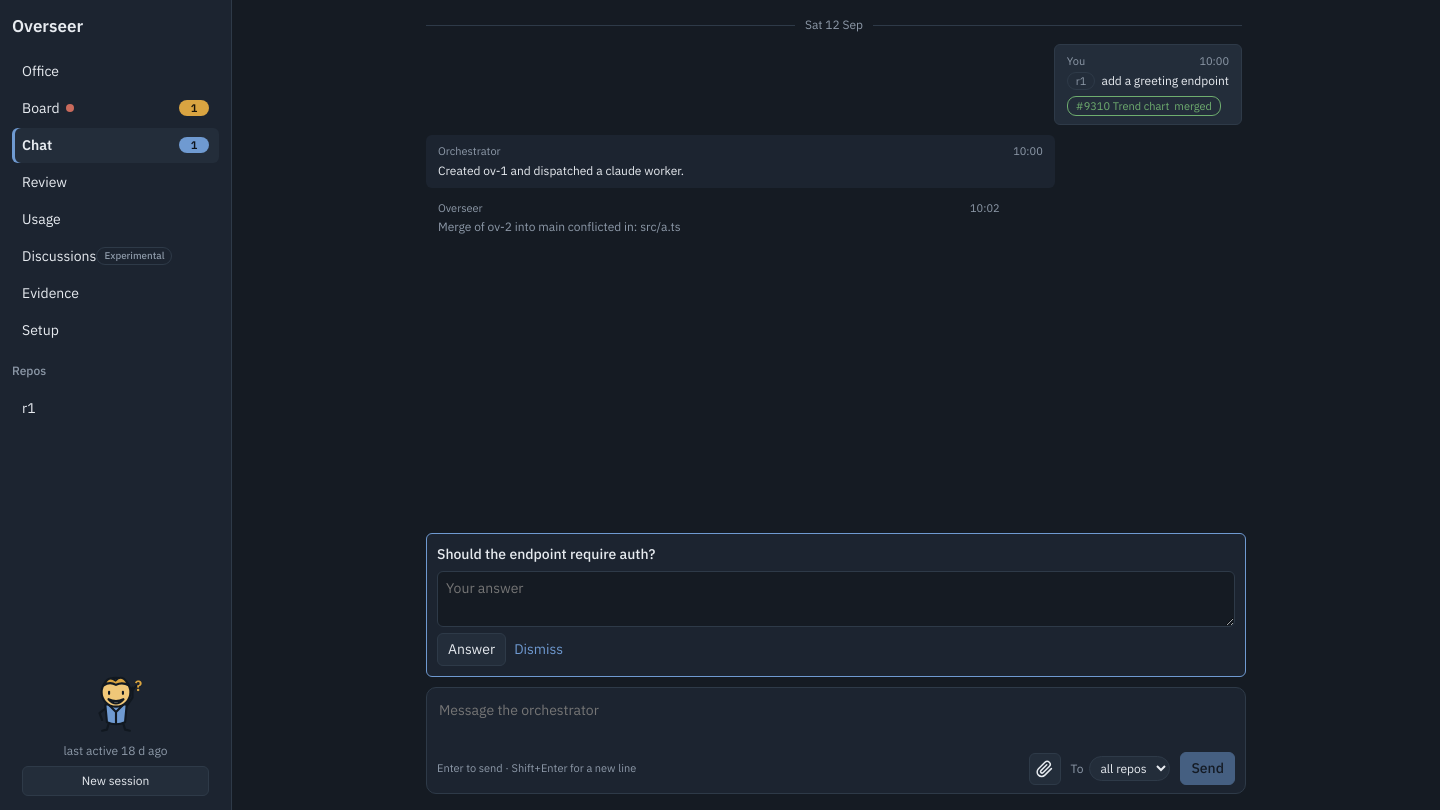
Test: App › opens a merged Chat outcome in place
This screenshot has width=1440, height=810.
Click the button with aria-label "#9310 Trend chart: merged" at (1144, 106), box top-left (1067, 96), bottom-right (1221, 116)
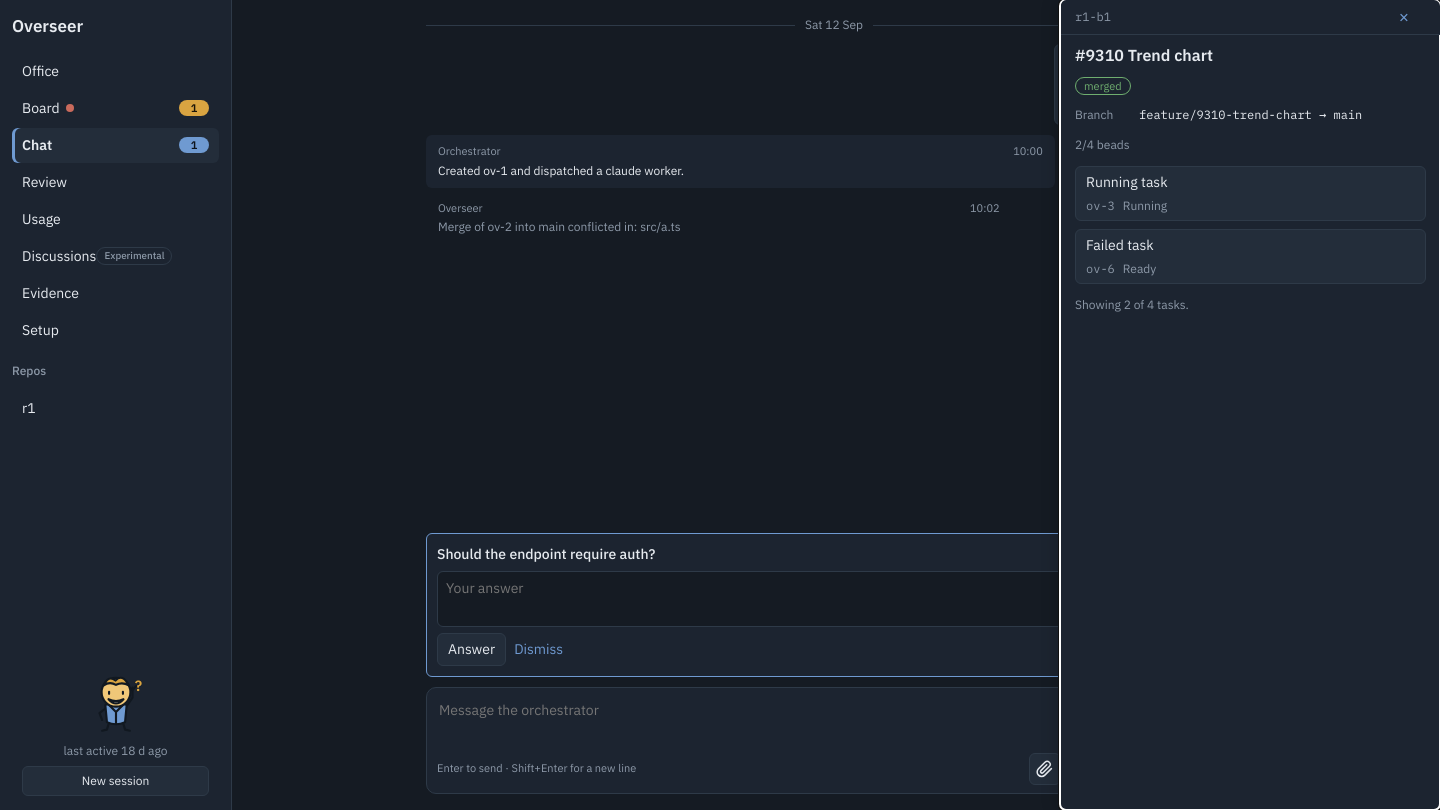
Now the element named "Batch details for r1-b1" is shown, box top-left (1060, 0), bottom-right (1439, 809)
